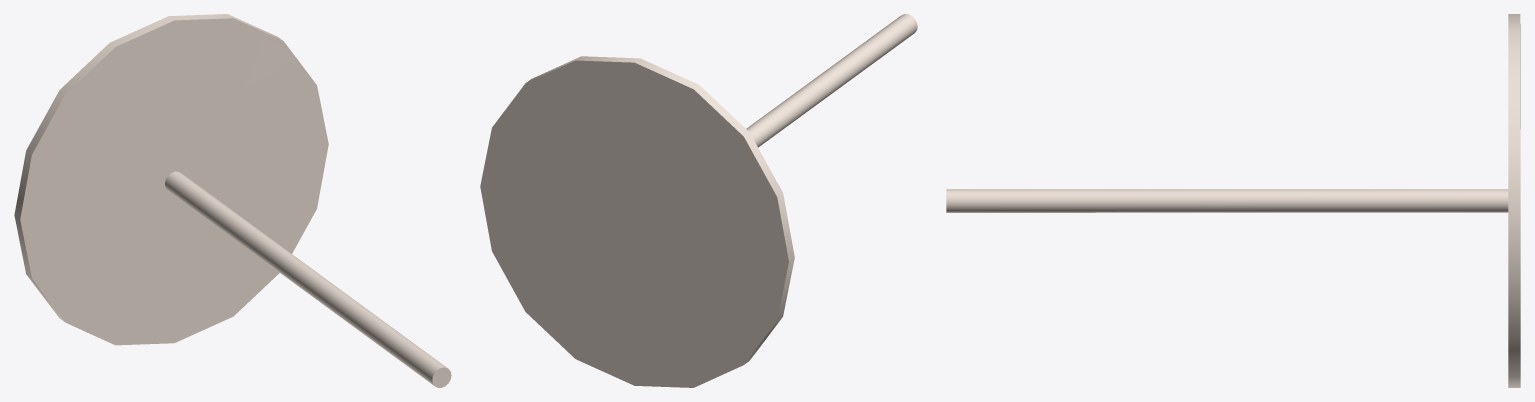
File: Fp214Cylinder_112Fp214_Cylinder_112_0_GeomSubset_1.obj
The picture shows the model from 3 angles, left to right: view 1: azimuth 30°, elevation 25°; view 2: azimuth 150°, elevation 25°; view 3: azimuth 270°, elevation 25°; orthographic projection. The views are drawn at different scales.
Parts seen in each view (by area): view 1: Fp214Cylinder_112Fp214_Cylinder_112_0_GeomSubset_1; view 2: Fp214Cylinder_112Fp214_Cylinder_112_0_GeomSubset_1; view 3: Fp214Cylinder_112Fp214_Cylinder_112_0_GeomSubset_1.
Boxes of the visible parts, x1=… form: Fp214Cylinder_112Fp214_Cylinder_112_0_GeomSubset_1: x1=14, y1=14, x2=451, y2=387; Fp214Cylinder_112Fp214_Cylinder_112_0_GeomSubset_1: x1=480, y1=14, x2=917, y2=387; Fp214Cylinder_112Fp214_Cylinder_112_0_GeomSubset_1: x1=946, y1=14, x2=1520, y2=387.
Size of the model in its own units: 0.2893 by 0.2893 by 0.4437.
1 material, 1 textured.
